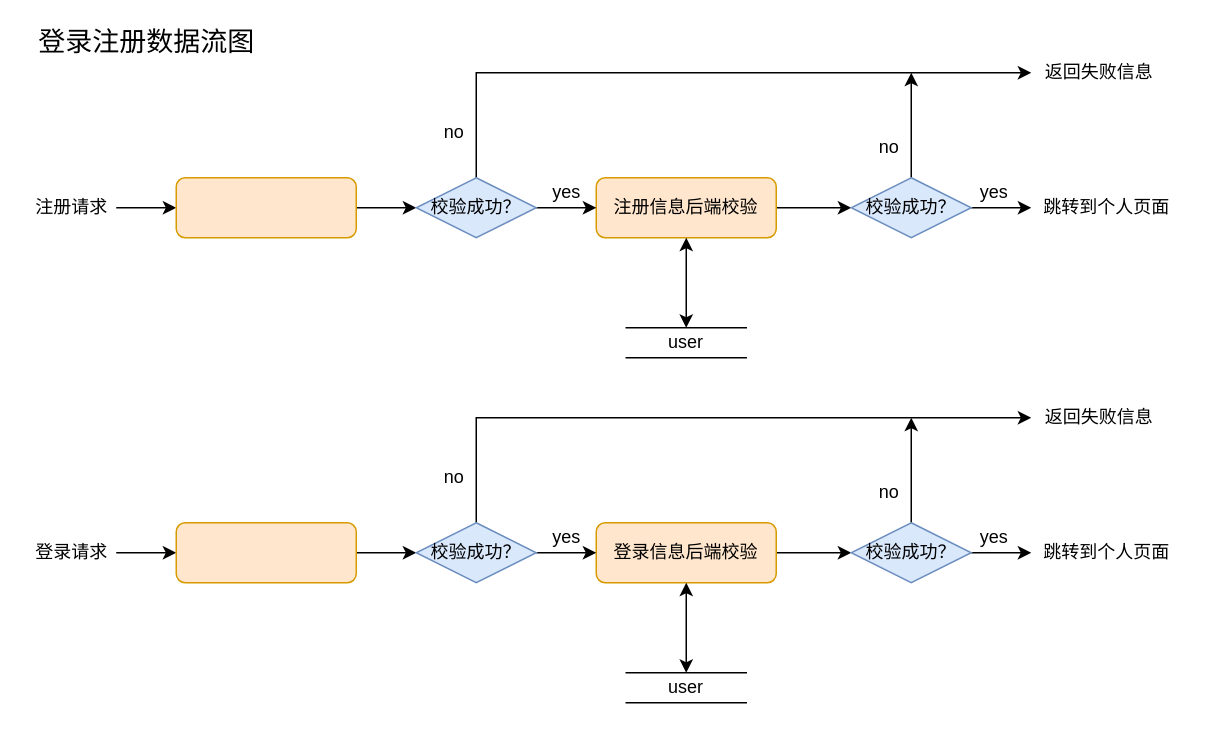
The diagram is 1206 pixels wide and 729 high, and some of its shapes have lost their labels. The centre of each missing label's shape, as x and y in pixels:
"注册信息前端校验" belongs at [265,207].
"登录信息前端校验" belongs at [265,552].
